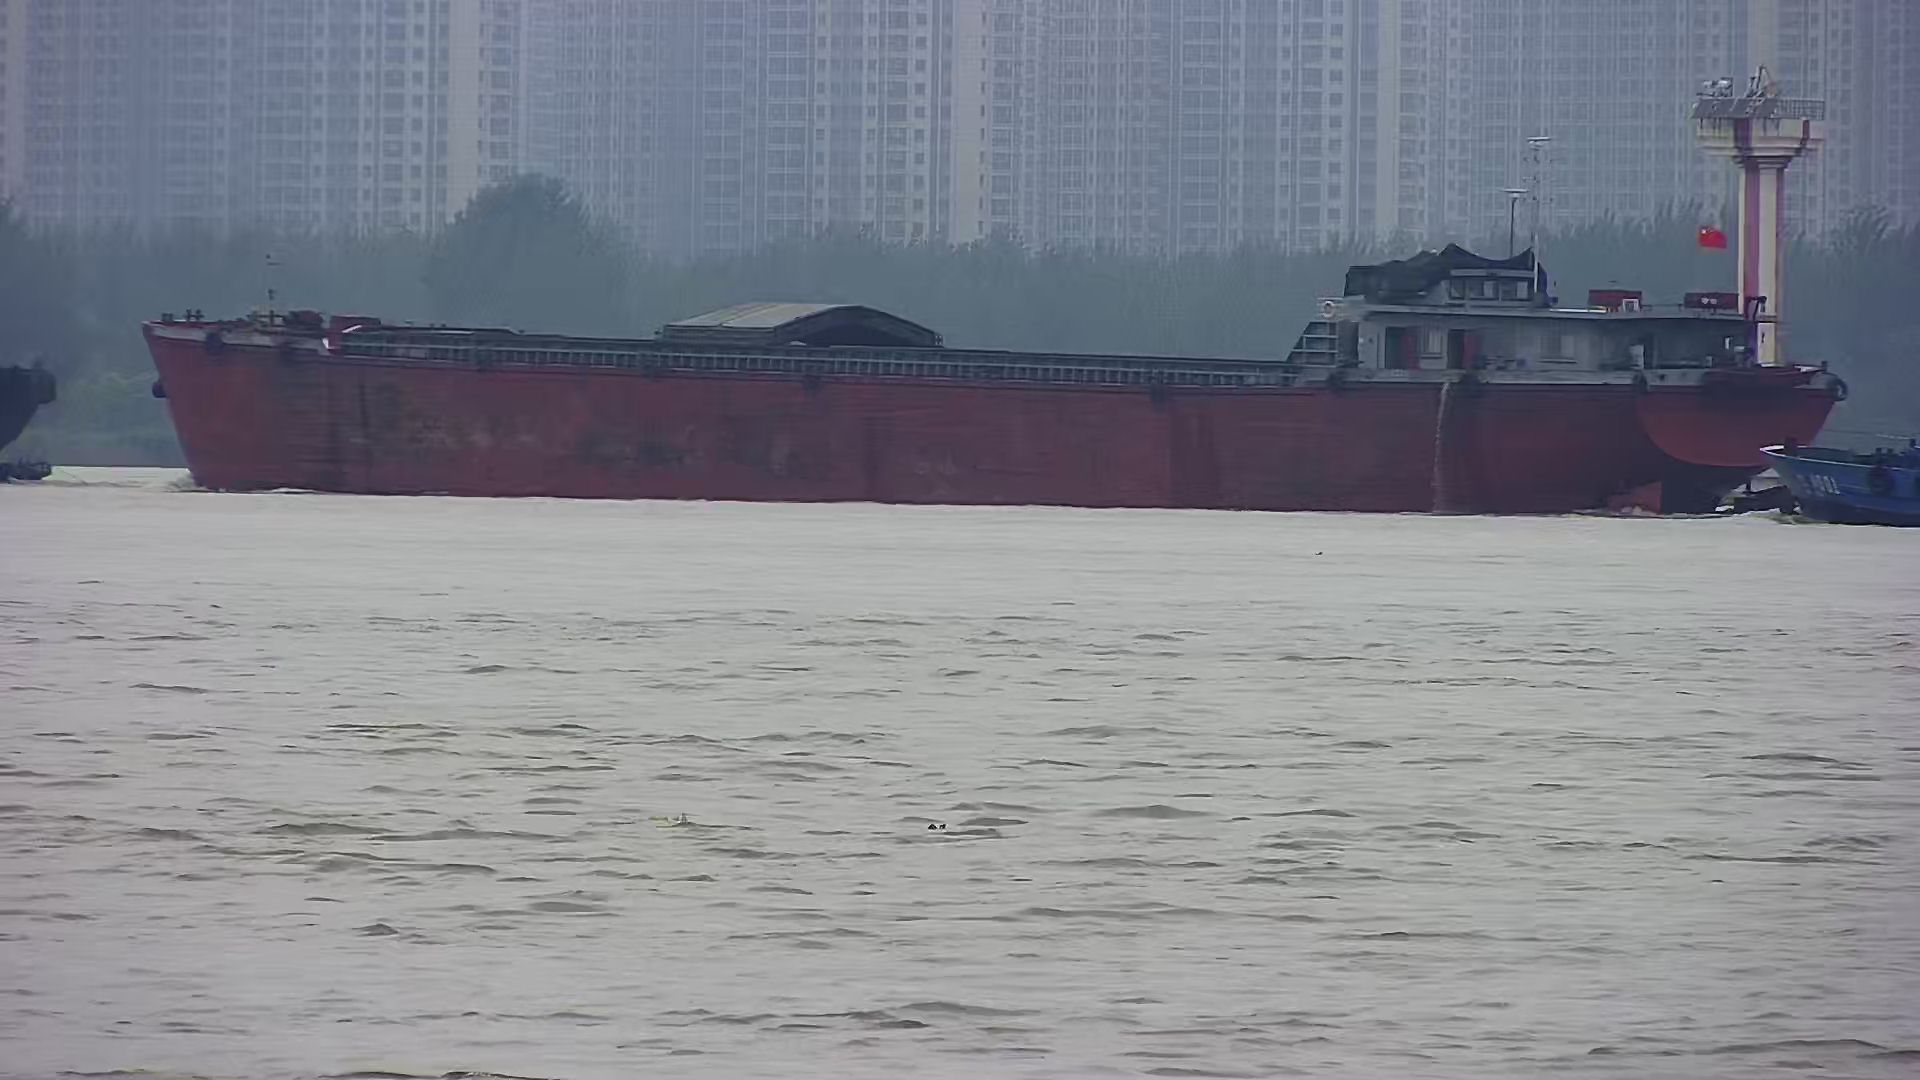platform: (1696, 61, 1820, 512)
ship: (135, 223, 1849, 514), (1750, 417, 1920, 527), (1, 338, 59, 485)
